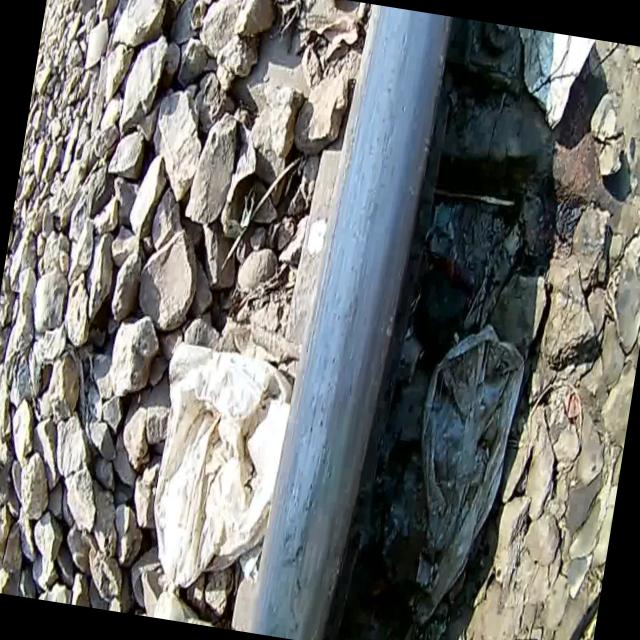Squats: (230, 0, 477, 640)
